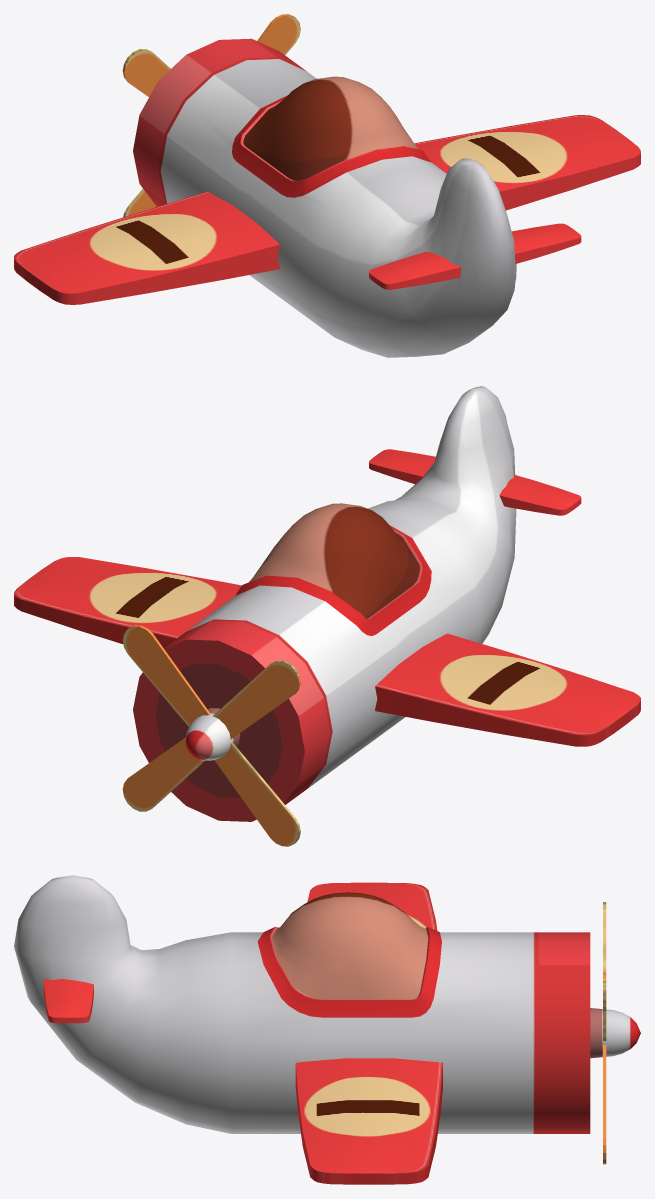
The model's file is feiji.FBX.
3 views of the same model, one above another, from view 1: azimuth 30°, elevation 25°; view 2: azimuth 150°, elevation 25°; view 3: azimuth 270°, elevation 25° (orthographic).
Parts seen in each view (by area): view 1: feiji; view 2: feiji; view 3: feiji.
Boxes of the visible parts, x1,y1,x2,y2 form: feiji: (14, 14, 640, 357); feiji: (14, 386, 640, 846); feiji: (14, 875, 640, 1184).
Size of the model in its own units: 16.1 by 6.5 by 14.66.
Materials: 1 (1 with a texture image).
